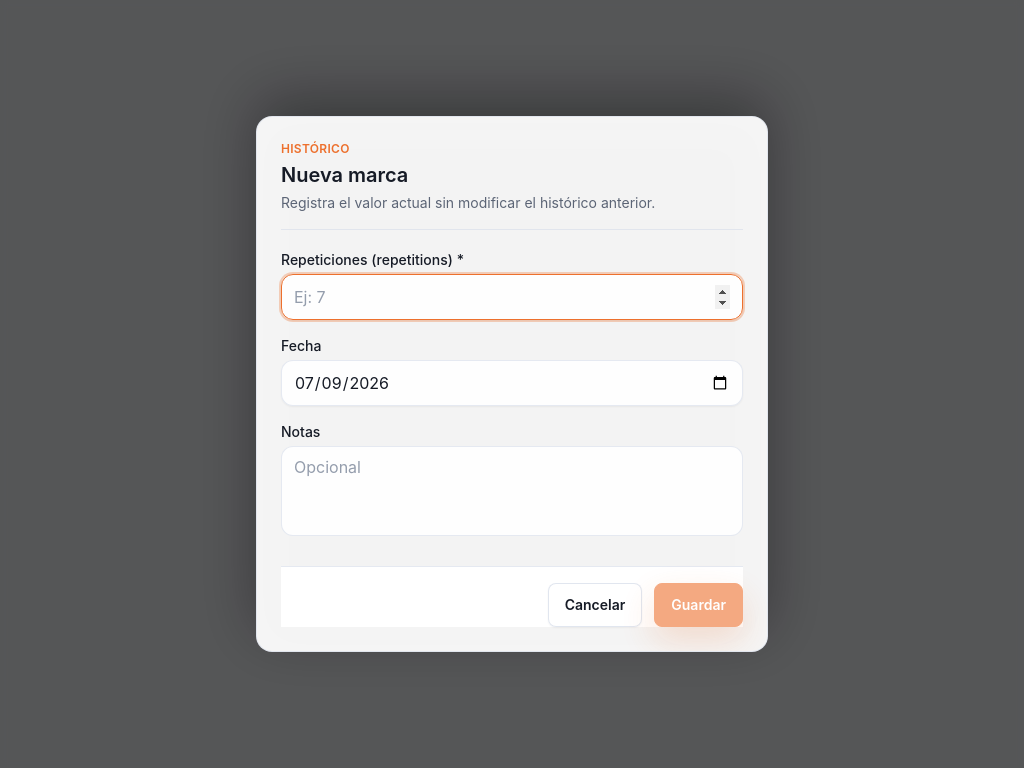
Test: PerformanceForm › keeps the form open and reports save failures
Type "8" into the number field labelled "Repeticiones (repetitions) *" at (512, 297), box [281,274,743,320]
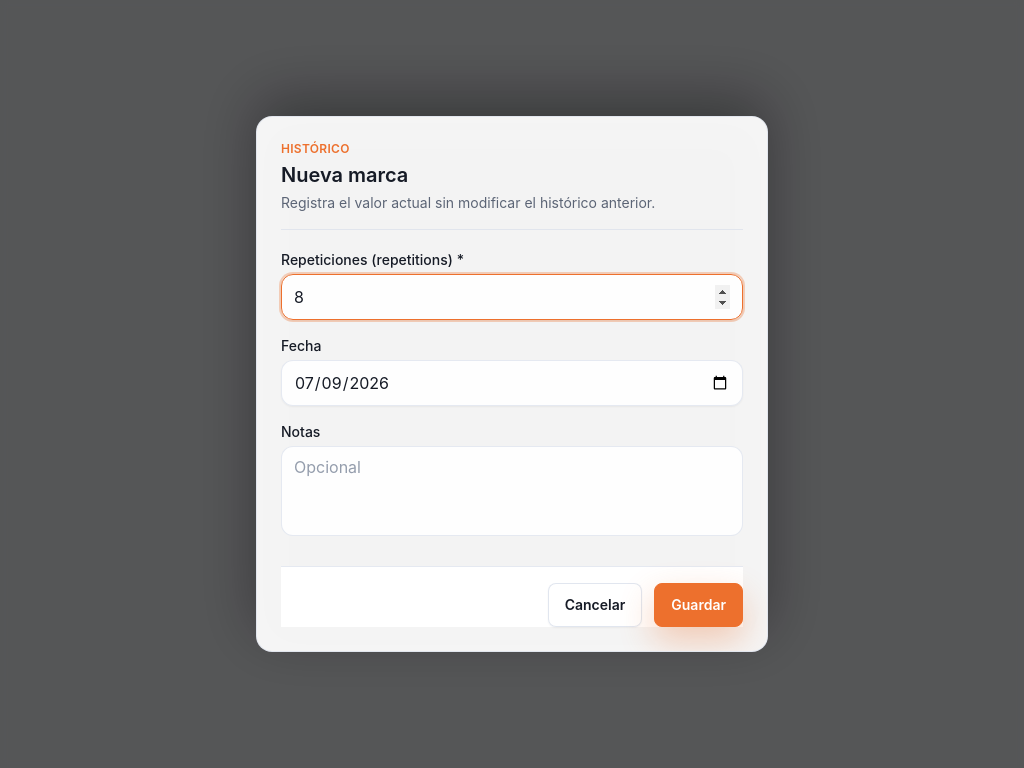
Click the button "Guardar" at (699, 605), box [654,583,743,627]
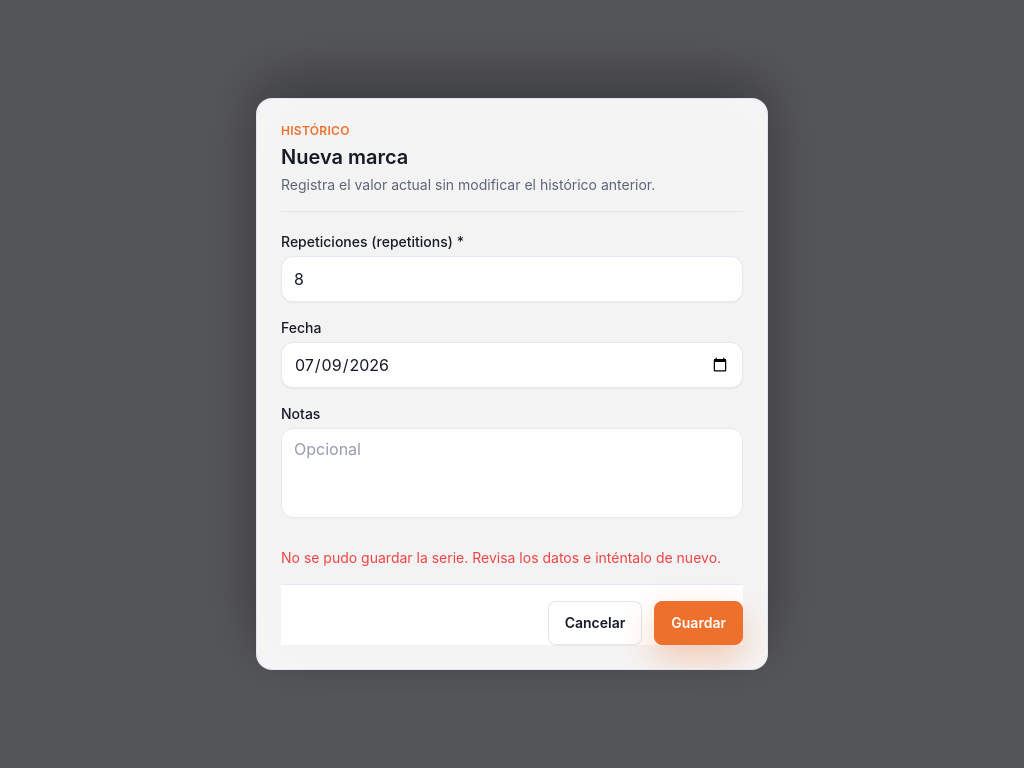
Check: the message shows "No se pudo guardar la serie", box [281,549,721,566]
